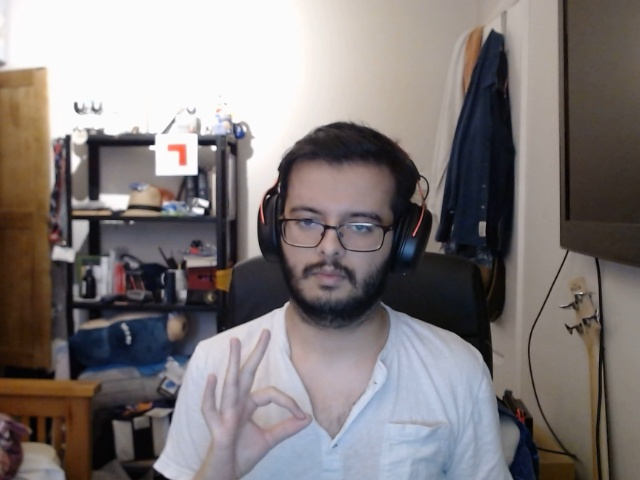Okay: (188, 323, 322, 480)
